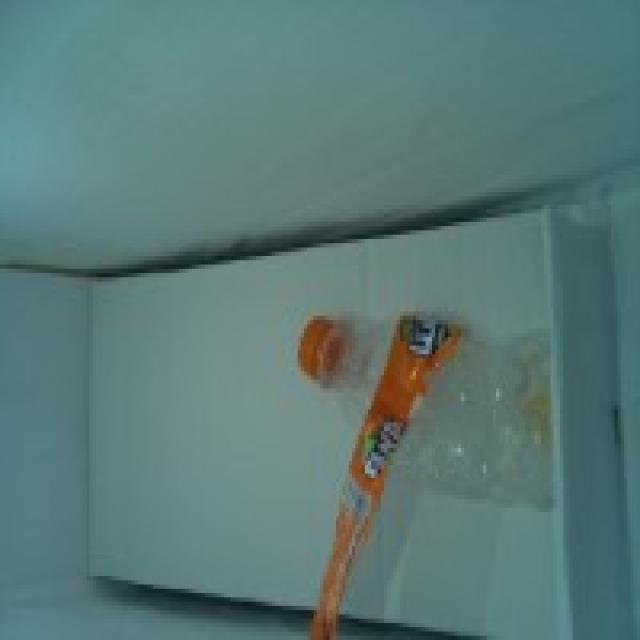plastic_bottle: (298, 314, 553, 511)
